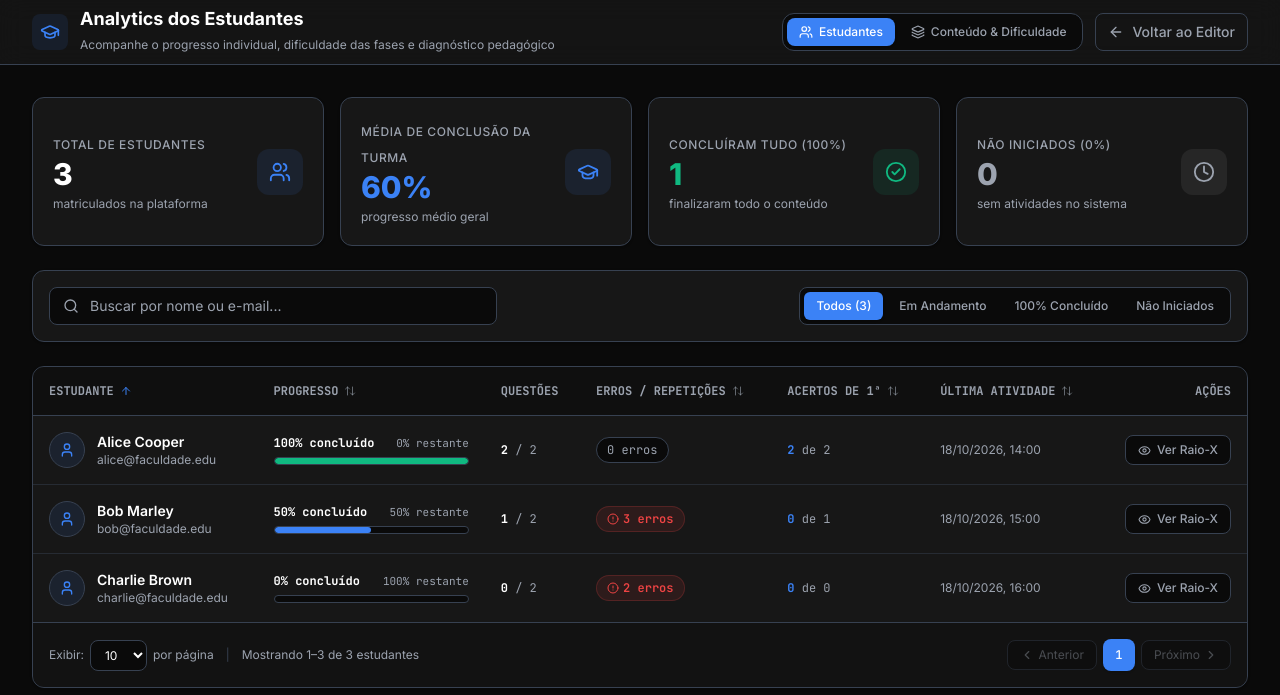
ContentAnalytics Integration Tests (SPEC-009 - TDD Fase Vermelha) › deve permitir alternar para a aba "Conteúdo & Dificuldade" através do seletor segmentado
The image size is (1280, 695).
Click the button "Conteúdo & Dificuldade" at (989, 32), box [899,18,1078,46]
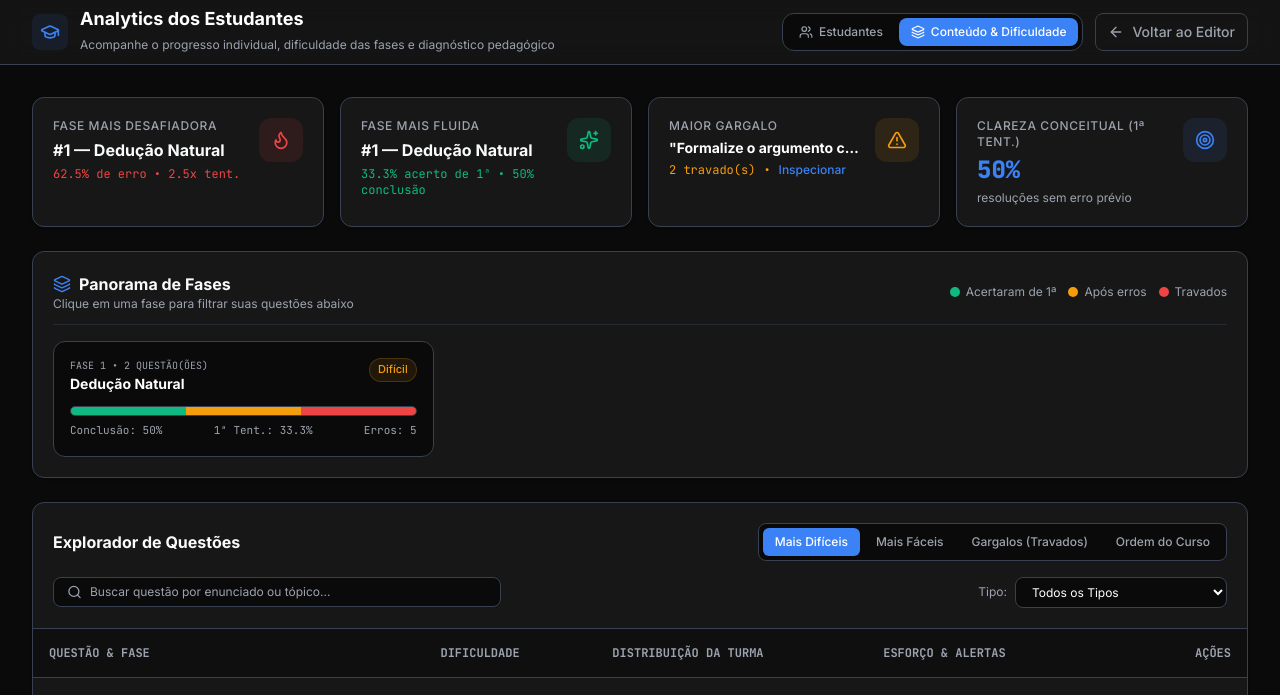
Now the heading "Panorama de Fases" is shown, box [53,274,231,294]
Now the heading "Explorador de Questões" is shown, box [53,530,240,554]
